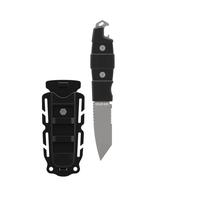knife: (84, 13, 121, 165)
